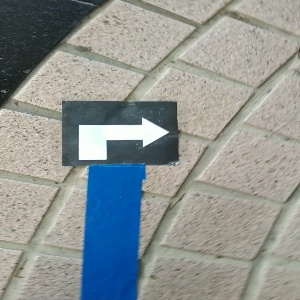right: (61, 101, 180, 165)
